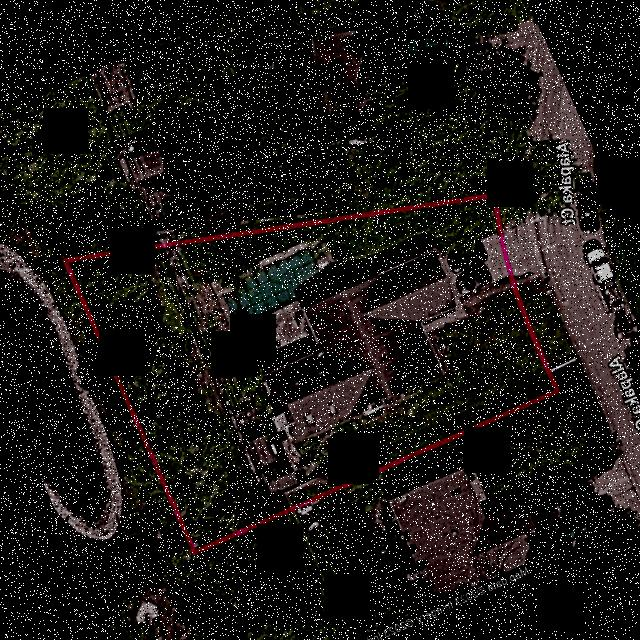Driveway: (438, 233, 508, 298)
Extra Driveway: (503, 213, 546, 279)
Extra Lawn: (513, 272, 588, 392), (496, 187, 532, 233)
House: (263, 249, 464, 442)
Other: (216, 234, 342, 327), (246, 434, 275, 468), (261, 471, 295, 493), (280, 438, 301, 470), (245, 323, 273, 346), (271, 412, 288, 431), (361, 404, 382, 417)
